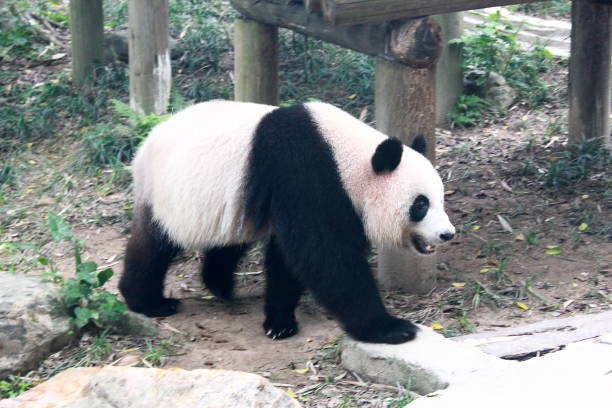panda: (358, 123, 478, 296)
